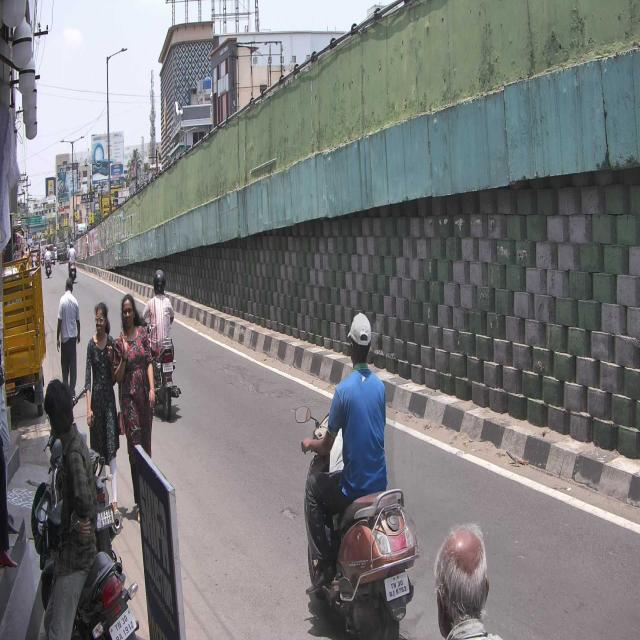single_rider: (292, 307, 420, 640)
